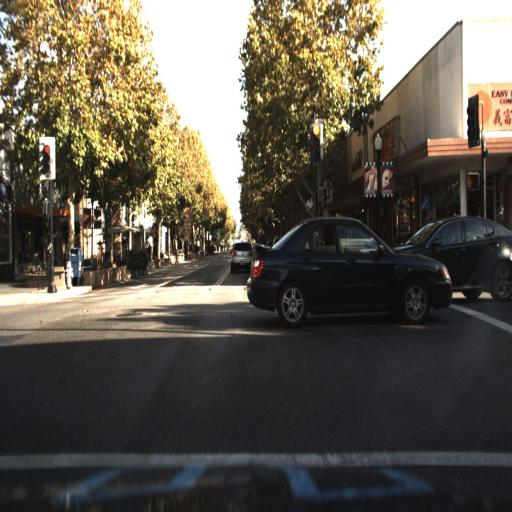car: (239, 212, 456, 326), (377, 216, 511, 300), (449, 203, 510, 310), (225, 231, 257, 277)
trafficLight-Red: (37, 136, 54, 177), (309, 119, 321, 163), (40, 137, 53, 177)
